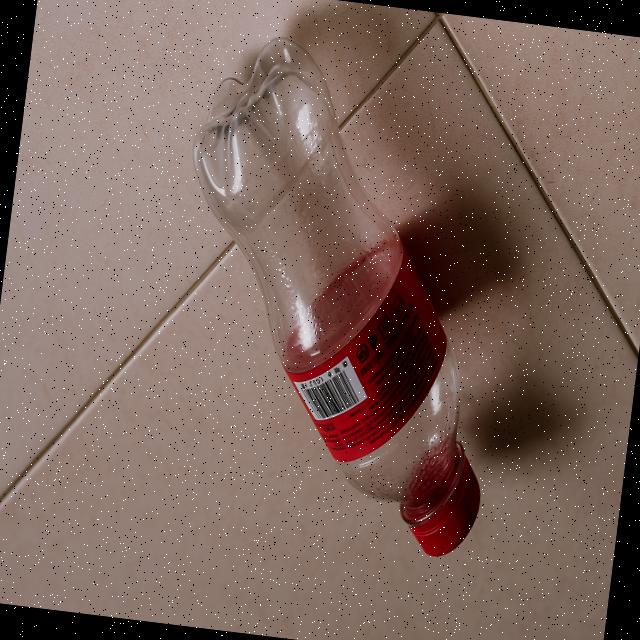plastic: (144, 31, 536, 556)
